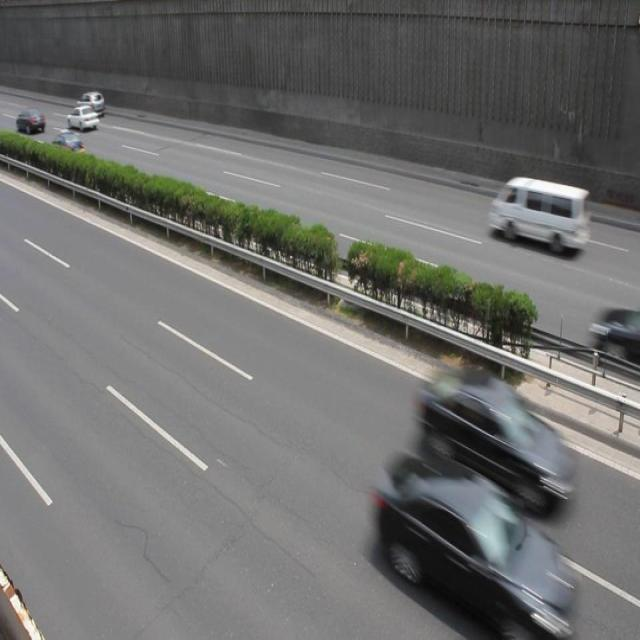car: (377, 449, 578, 625), (420, 368, 572, 523), (52, 128, 84, 164), (67, 105, 100, 132), (76, 91, 106, 118)
truck: (488, 176, 589, 255)
